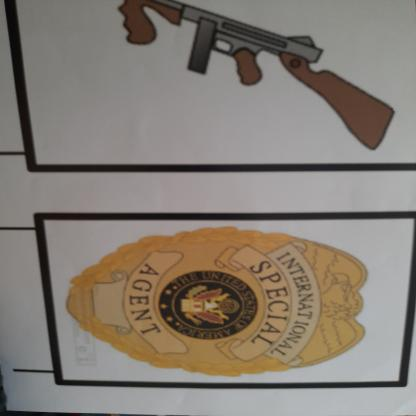Bootlegger: (90, 1, 416, 166)
G-man: (39, 217, 382, 388)
